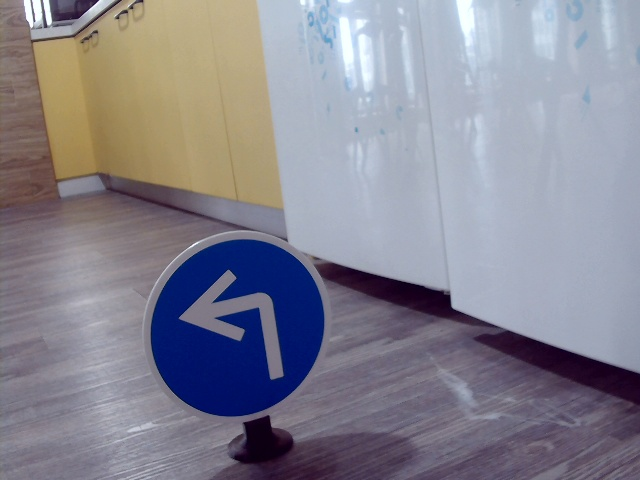turn_left: (179, 269, 290, 383)
